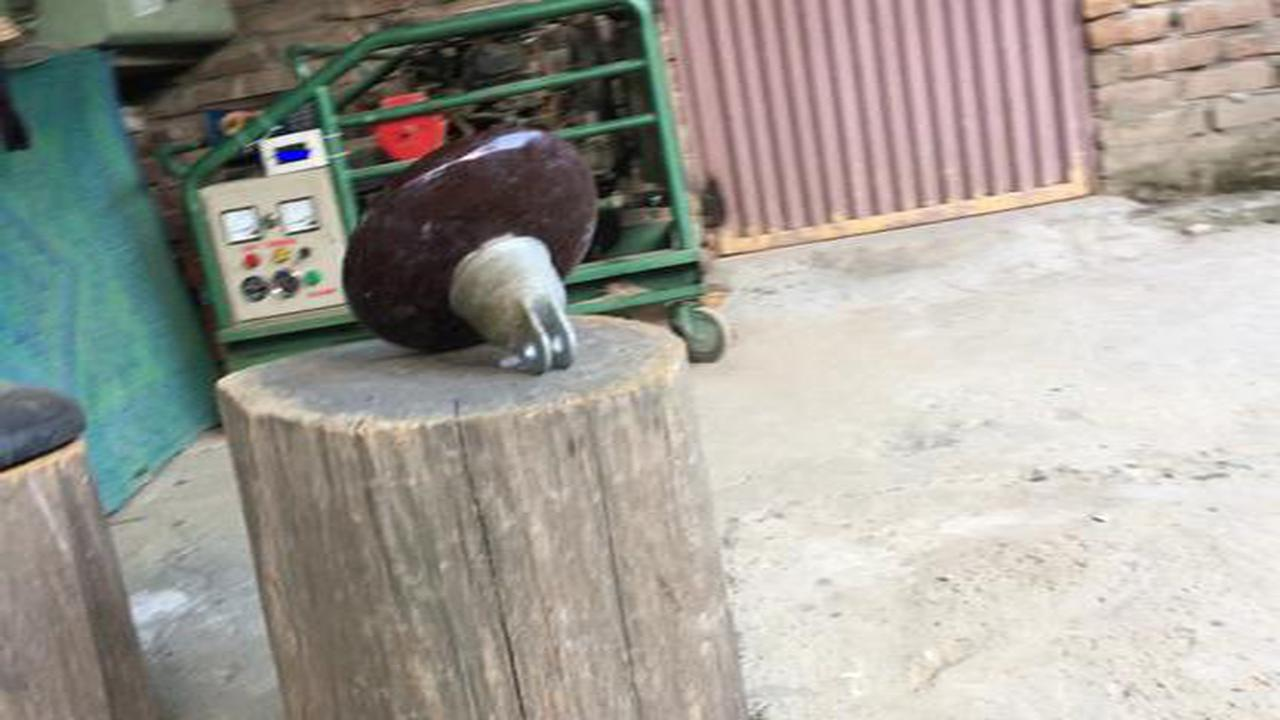insulator_disc: (342, 120, 605, 374)
